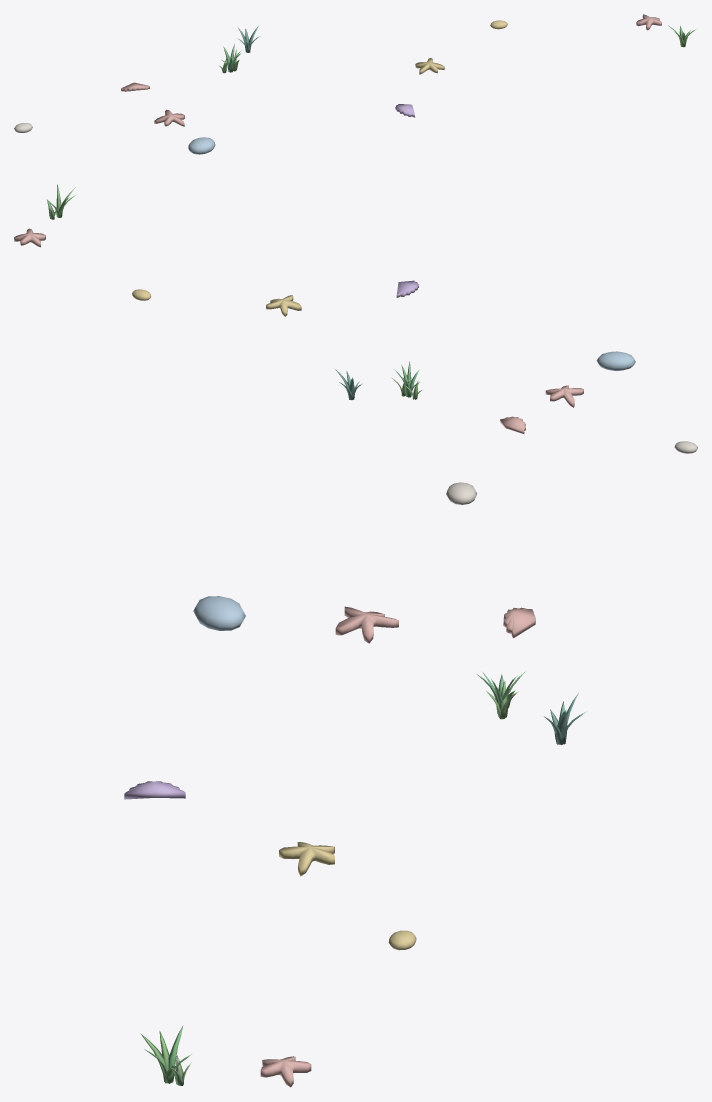
The model's file is W2_FloraRing_10_12.fbx.
3 views of the same model, one above another, from view 1: azimuth 30°, elevation 25°; view 2: azimuth 150°, elevation 25°; view 3: azimuth 270°, elevation 25° (orthographic). The views are drawn at different scales.
Visible parts, largest first — view 1: W2_FloraRing_10_12; view 2: W2_FloraRing_10_12; view 3: W2_FloraRing_10_12.
Part boxes in pixels (<box>): W2_FloraRing_10_12: <box>14,14,696,154</box>; W2_FloraRing_10_12: <box>14,184,697,453</box>; W2_FloraRing_10_12: <box>124,482,586,1087</box>.
Size of the model in its own units: 3.46 by 0.16 by 1.15.
